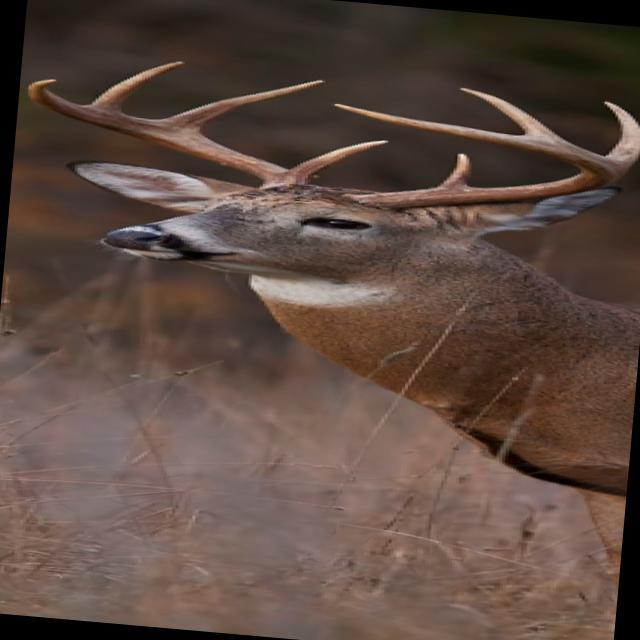L-F: (331, 103, 624, 210)
L-G1: (428, 152, 479, 188)
L-G2: (603, 101, 640, 174)
R-F: (26, 77, 311, 189)
R-G1: (285, 139, 391, 181)
R-G2: (153, 78, 329, 136)
R-G3: (90, 60, 187, 114)
